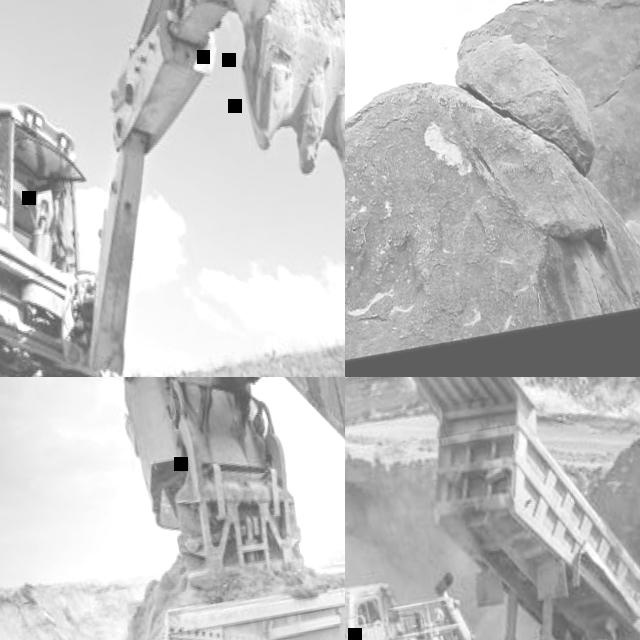machinery: (0, 0, 345, 377), (345, 0, 640, 360), (345, 377, 640, 640), (101, 377, 345, 640), (92, 546, 345, 640)
